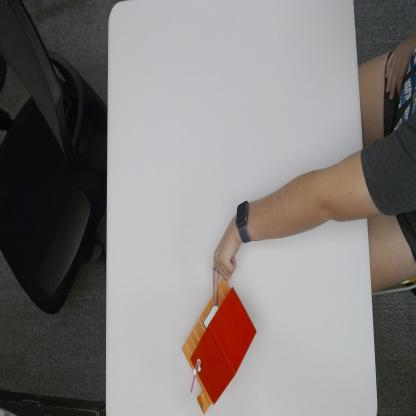Arm: (251, 155, 367, 236)
Hand: (211, 218, 238, 298)
House: (182, 274, 257, 412)
